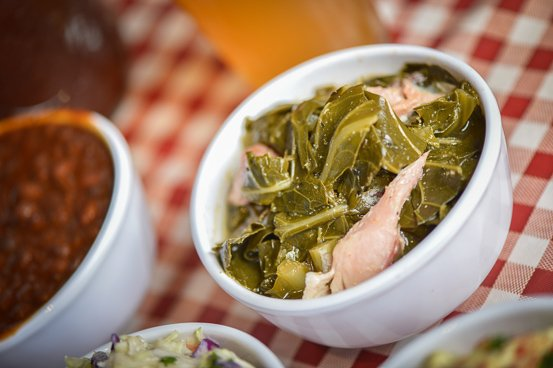sushi: (190, 45, 502, 352), (0, 107, 135, 352), (382, 296, 553, 365), (101, 322, 285, 368)
